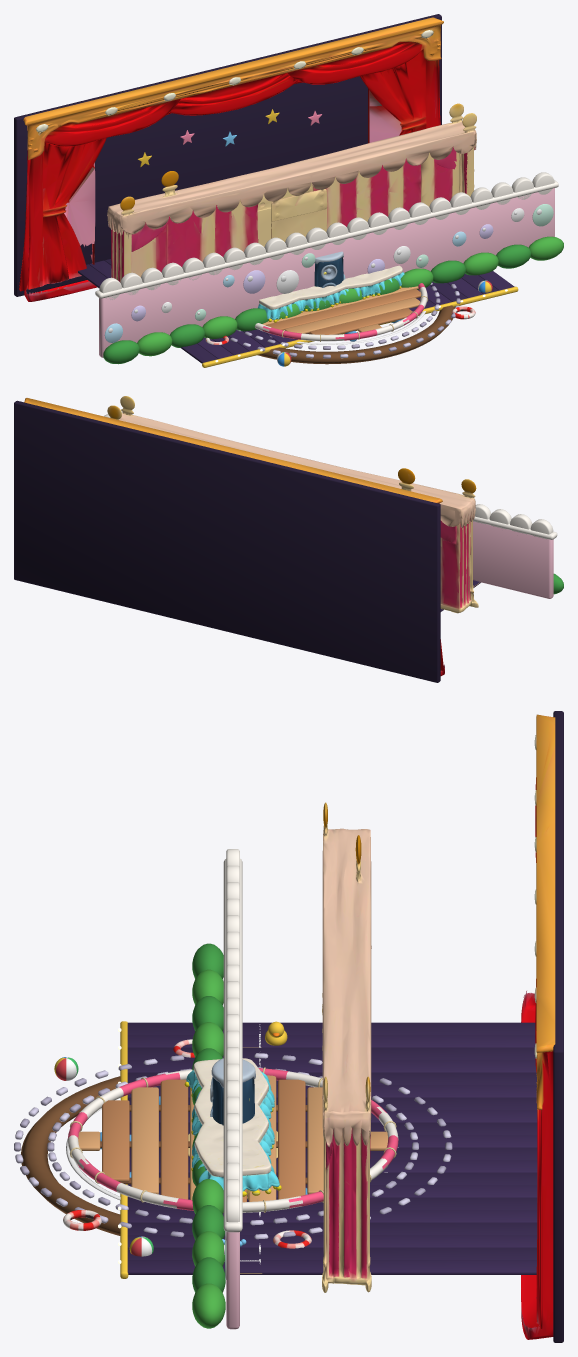
3 views of the same model, one above another, from view 1: azimuth 30°, elevation 25°; view 2: azimuth 150°, elevation 25°; view 3: azimuth 270°, elevation 25° (orthographic). The views are drawn at different scales.
Visible parts, largest first — view 1: Mgb_curtain, Mgb_bub_wall, Mgb_booth, Mgb_raft, Mgb_stage, Mgb_bed_ring, Mgb_cups_table, Mgb_speaker, Mgb_floats; view 2: Mgb_curtain, Mgb_booth, Mgb_bub_wall; view 3: Mgb_stage, Mgb_booth, Mgb_raft, Mgb_curtain, Mgb_bub_wall, Mgb_bed_ring, Mgb_cups_table, Mgb_floats, Mgb_speaker.
Part boxes in pixels (bbox=[...]): Mgb_curtain: bbox=[14, 14, 443, 301]; Mgb_bub_wall: bbox=[95, 172, 563, 364]; Mgb_booth: bbox=[107, 103, 476, 282]; Mgb_raft: bbox=[254, 283, 428, 344]; Mgb_stage: bbox=[78, 259, 518, 367]; Mgb_bed_ring: bbox=[230, 283, 460, 364]; Mgb_cups_table: bbox=[258, 265, 404, 322]; Mgb_speaker: bbox=[314, 251, 343, 287]; Mgb_floats: bbox=[205, 280, 492, 366]; Mgb_curtain: bbox=[14, 398, 444, 682]; Mgb_booth: bbox=[107, 396, 478, 613]; Mgb_bub_wall: bbox=[104, 414, 563, 598]; Mgb_stage: bbox=[118, 1021, 537, 1278]; Mgb_booth: bbox=[322, 802, 371, 1292]; Mgb_raft: bbox=[66, 1067, 398, 1212]; Mgb_curtain: bbox=[521, 711, 563, 1342]; Mgb_bub_wall: bbox=[192, 849, 242, 1329]; Mgb_bed_ring: bbox=[14, 1053, 452, 1239]; Mgb_cups_table: bbox=[184, 1058, 281, 1199]; Mgb_floats: bbox=[54, 1021, 311, 1256]; Mgb_speaker: bbox=[210, 1058, 255, 1125].
Bounding box in the file's own units: 32.42 × 12 × 20.45.
45 materials, 3 textured.
